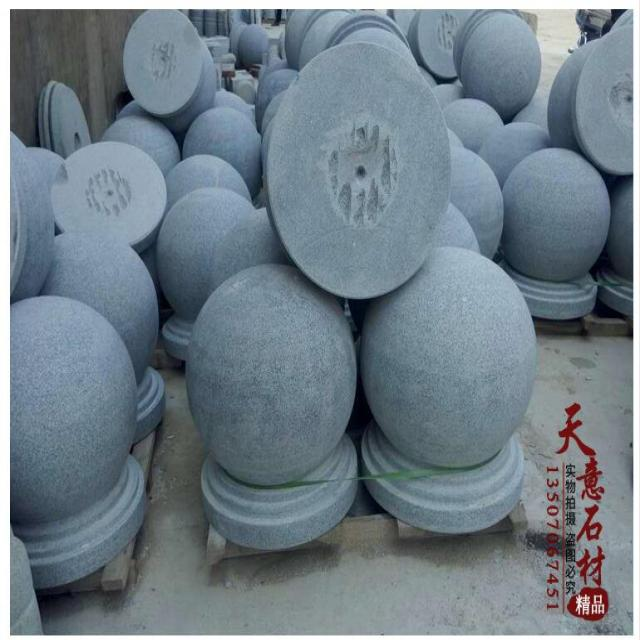spherical_roadblock: (187, 262, 365, 554), (364, 241, 535, 536), (9, 291, 146, 586), (504, 144, 605, 323), (155, 190, 252, 360), (456, 8, 538, 112)
